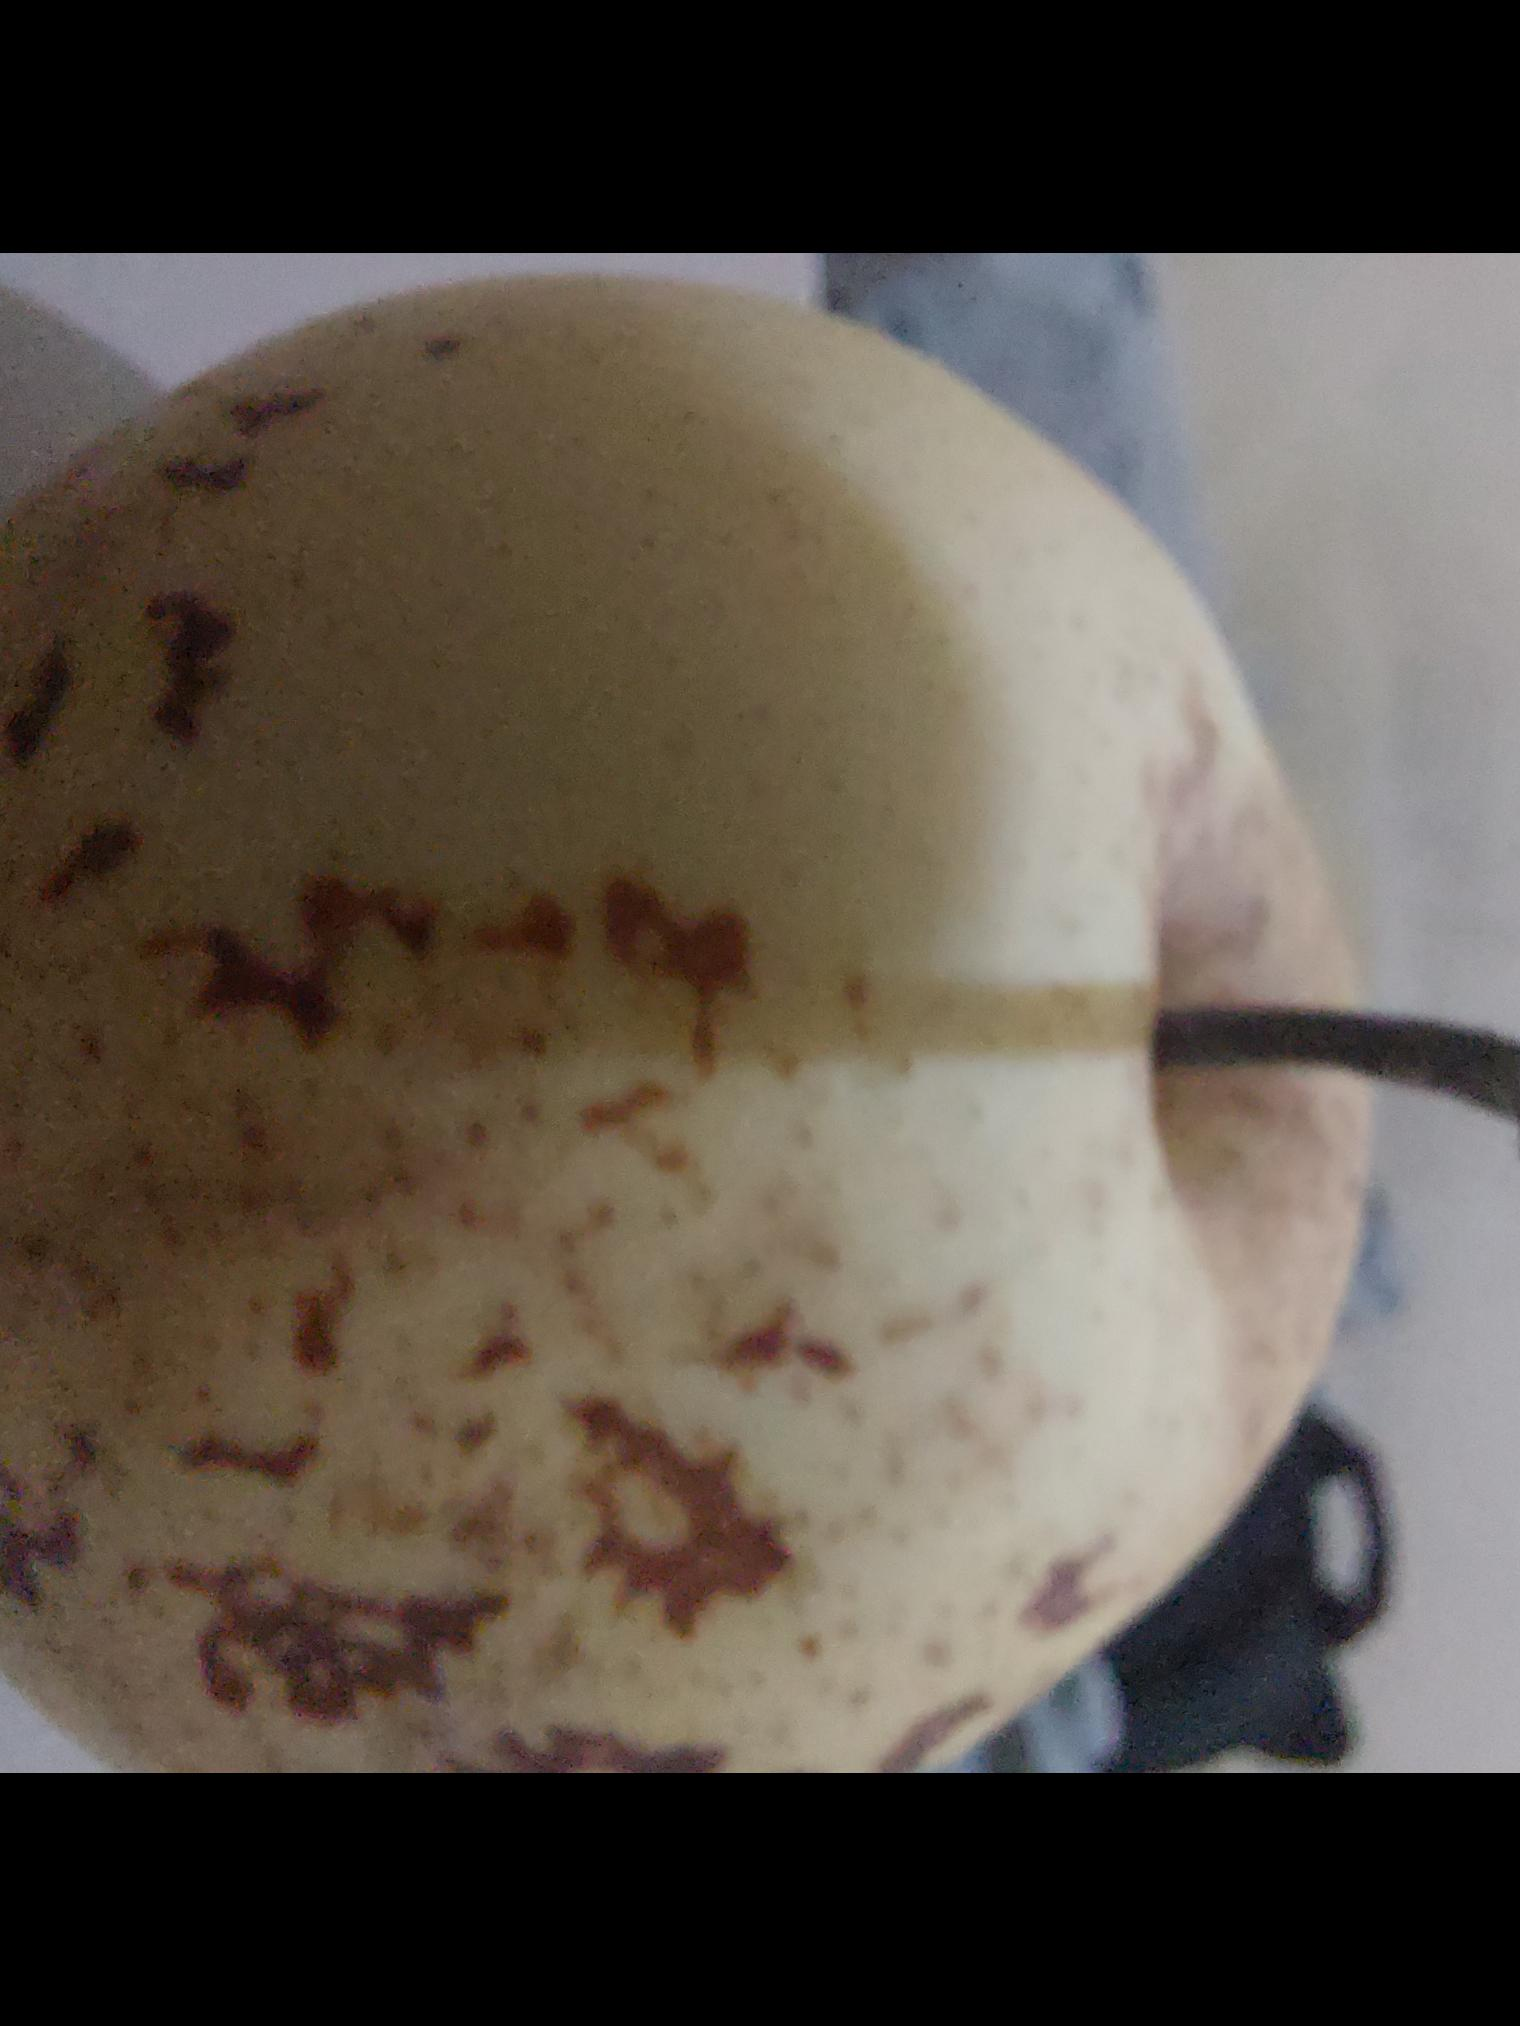Bad Pear: (0, 252, 1400, 1774)
